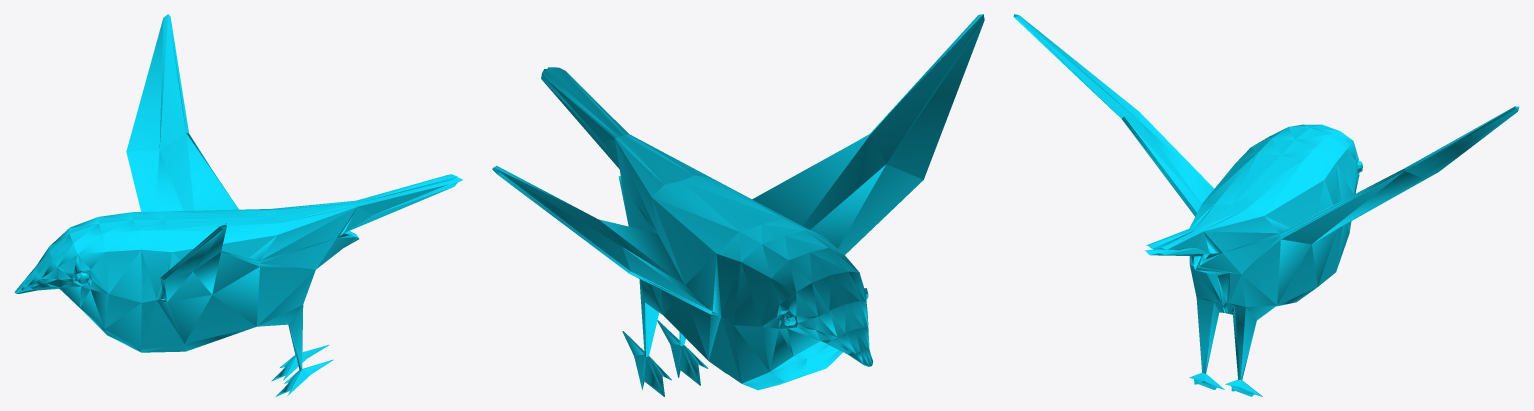
Rendered from Bird.dae.
The picture shows the model from 3 angles, left to right: view 1: azimuth 30°, elevation 25°; view 2: azimuth 150°, elevation 25°; view 3: azimuth 270°, elevation 25°; orthographic projection. The views are drawn at different scales.
Visible parts, largest first — view 1: lowpoly_bird.003; view 2: lowpoly_bird.003; view 3: lowpoly_bird.003.
Part boxes in pixels (<box>): lowpoly_bird.003: <box>14,14,463,396</box>; lowpoly_bird.003: <box>492,14,984,396</box>; lowpoly_bird.003: <box>1013,14,1519,396</box>.
Size of the model in its own units: 5.81 by 6.45 by 4.22.
1 material, 1 textured.
